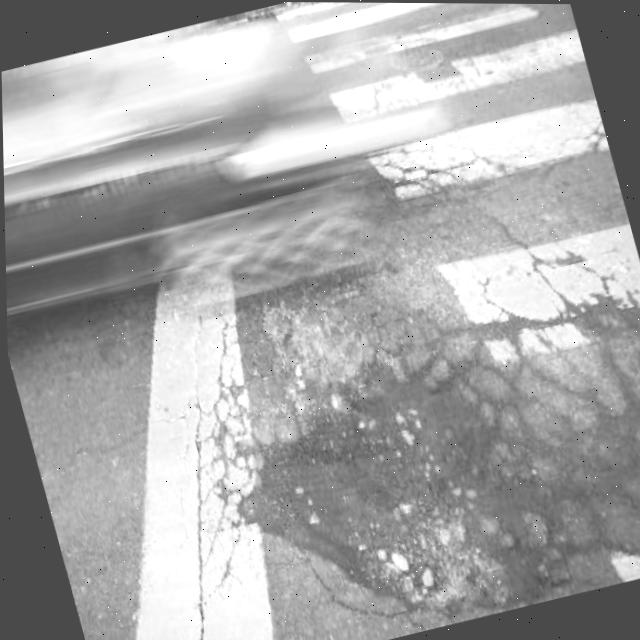Pothole: (214, 325, 569, 640)
